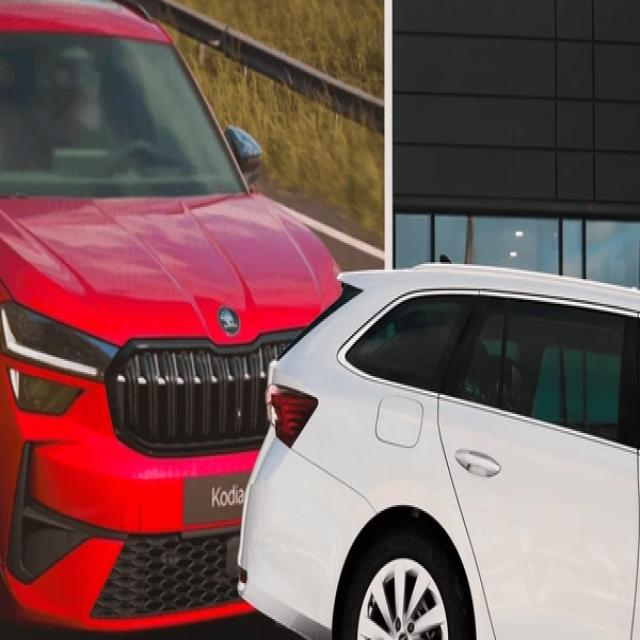skoda: (218, 304, 241, 337)
